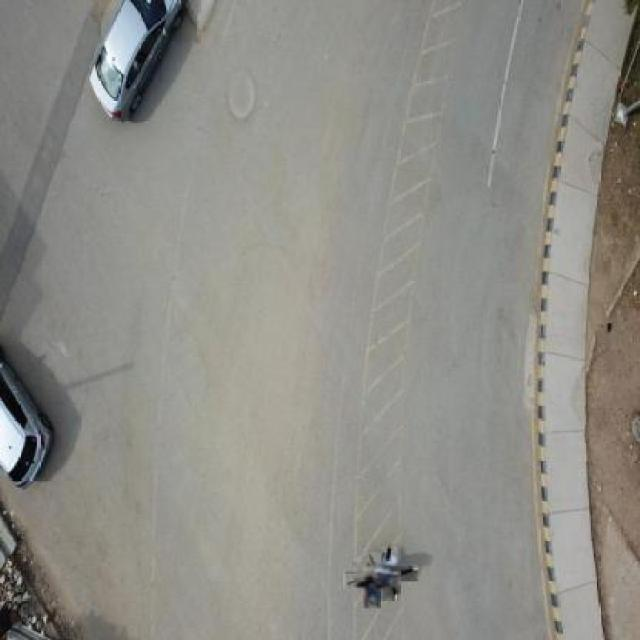Person: (354, 562, 392, 600), (373, 556, 410, 592)
